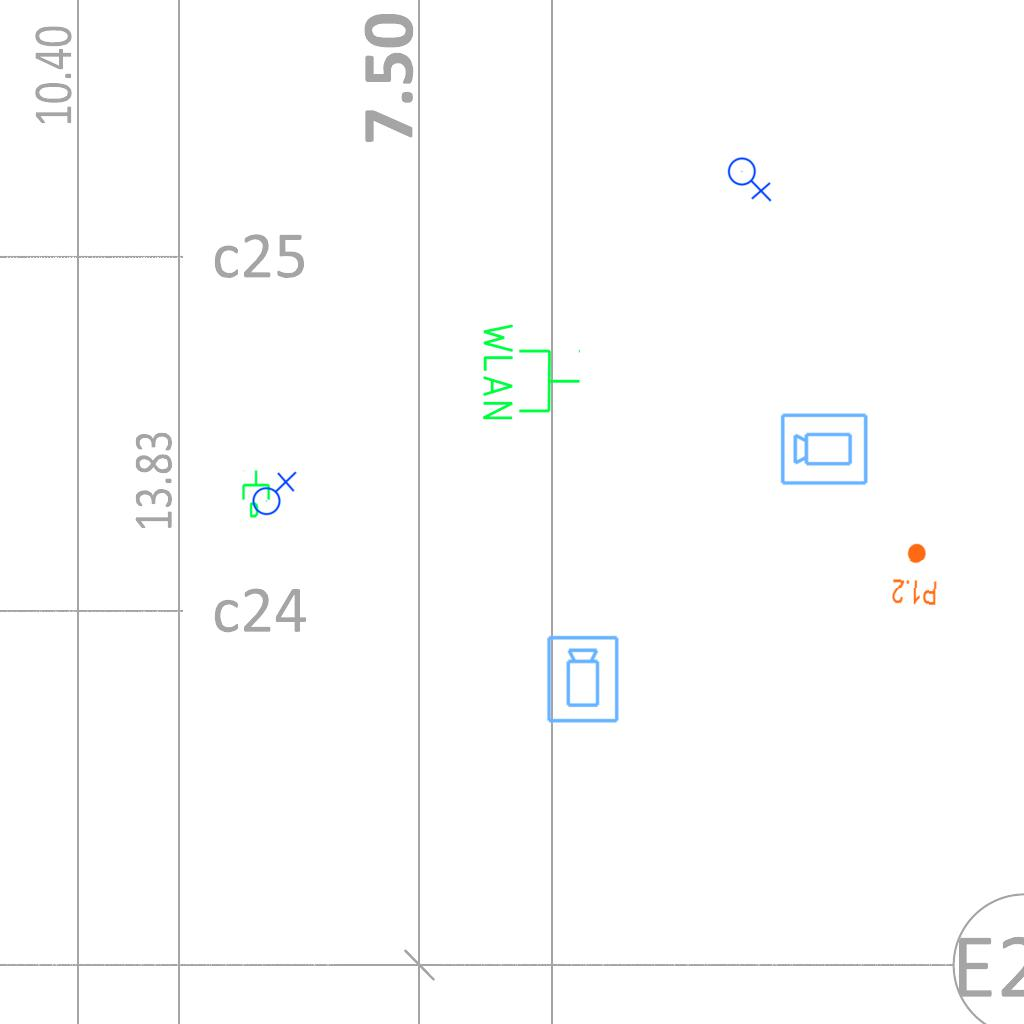Datenanschluss_einfach: (240, 469, 274, 519)
Downlight_LED_Einbauleuchten_Flur: (890, 541, 940, 607)
Elektroanschluss_allgemein_230V_Geraeteanschlussdose_230V: (727, 153, 774, 202), (248, 469, 297, 516)
KFO_Kamera_mit_Festobjektiv: (545, 634, 622, 725), (779, 410, 870, 487)
WLAN: (479, 319, 583, 424)
